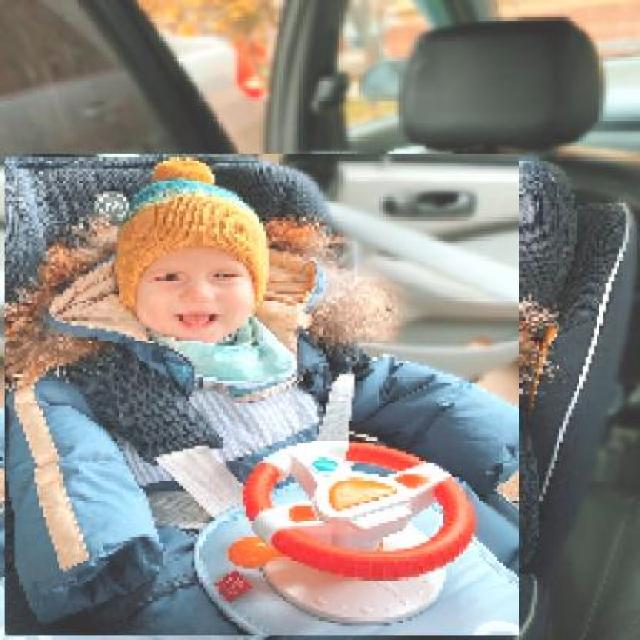child: (3, 154, 520, 637)
